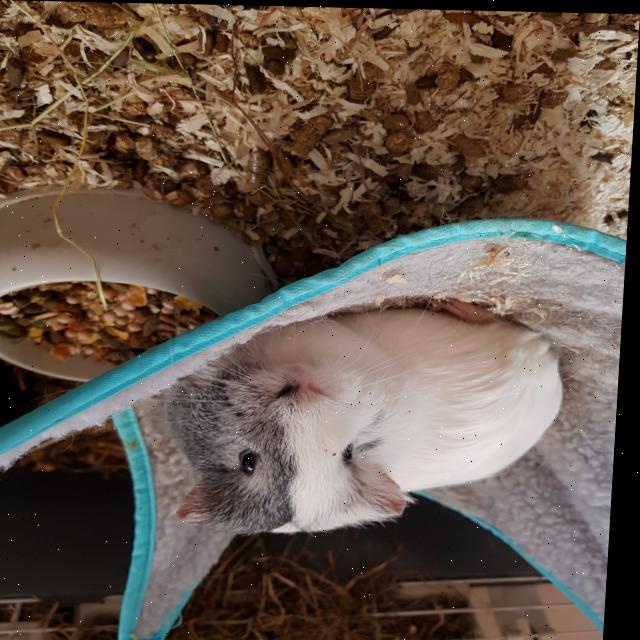guinea pig: (161, 290, 575, 540)
